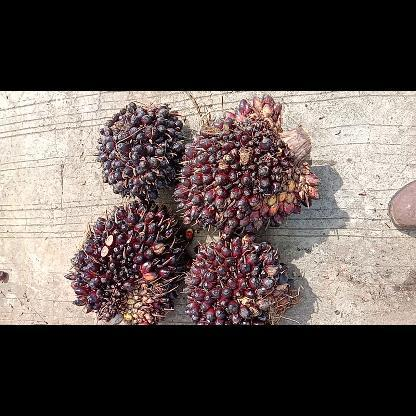TBS mentah: (173, 95, 323, 238), (62, 198, 188, 324), (180, 232, 296, 324), (95, 98, 190, 202)
